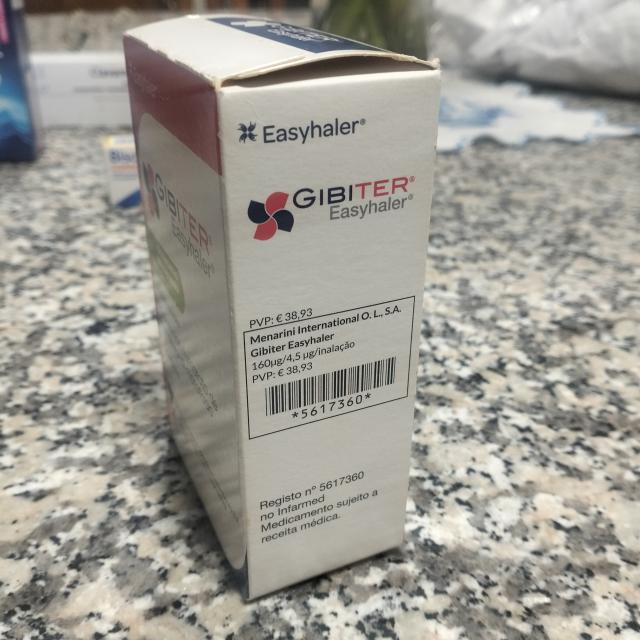box: (128, 19, 441, 602)
